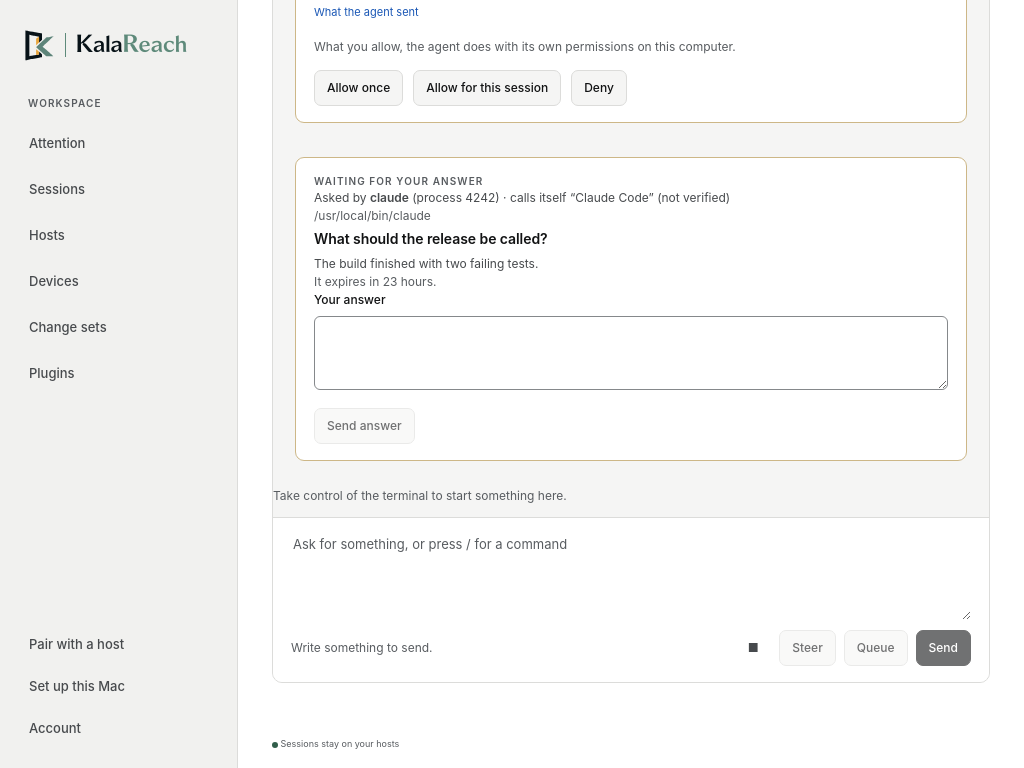
Test case: on the desktop › asks the host what became of an action whose outcome it never confirmed
(page scrolled)
In the text box with test id "composer-input": (631, 577) 291,534 -> 971,620, type "run the migration"
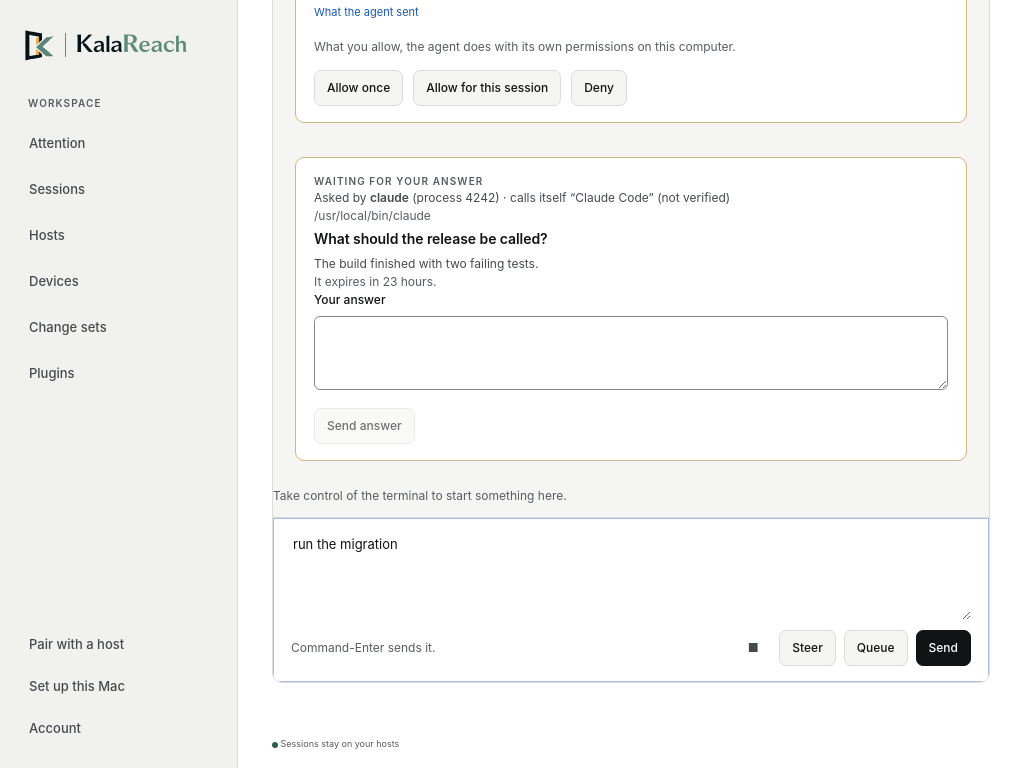
Check: the button with test id "composer-send" is enabled
Click the button with test id "composer-send": (943, 648) 916,630 -> 971,666
(page scrolled)
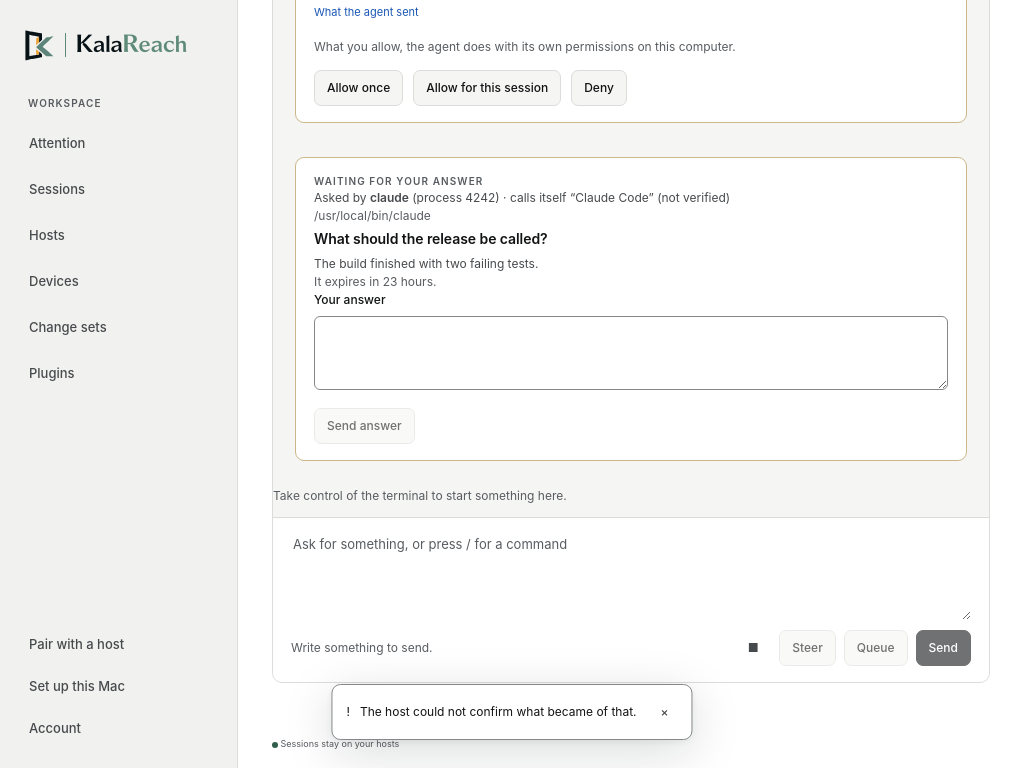
Check: the text with test id "composer-reason" does not show "no confirmed outcome", box 291,639 -> 432,657
In the text box with test id "composer-input": (631, 577) 291,534 -> 971,620, type "the next thing"
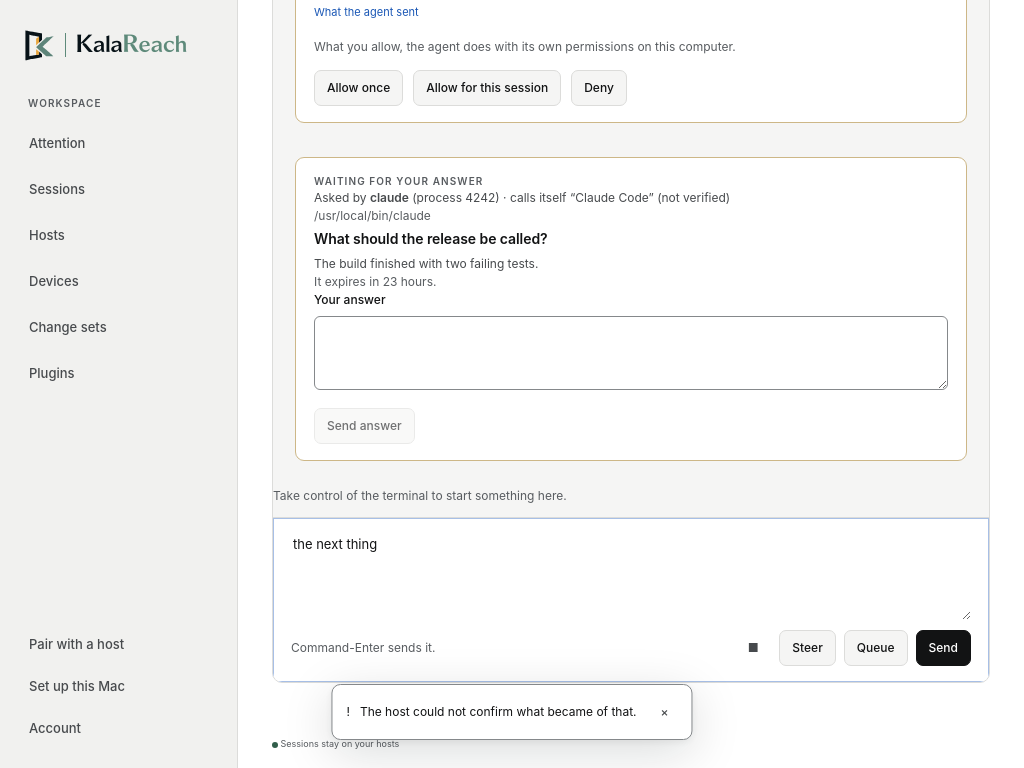
Check: the button with test id "composer-send" is enabled, box 916,630 -> 971,666
